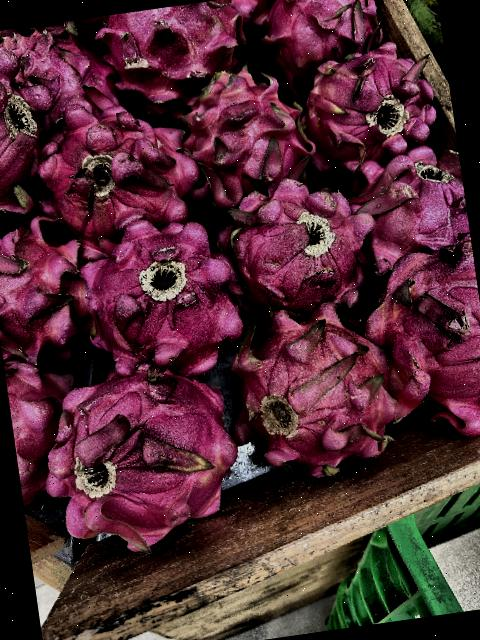buah-naga-matang: (36, 356, 254, 555), (59, 210, 255, 381), (221, 296, 404, 478), (352, 243, 480, 446), (25, 100, 205, 244), (215, 171, 377, 324), (284, 40, 448, 177), (96, 0, 264, 112), (170, 60, 308, 194), (341, 140, 472, 267), (0, 25, 60, 220), (253, 0, 389, 80)
